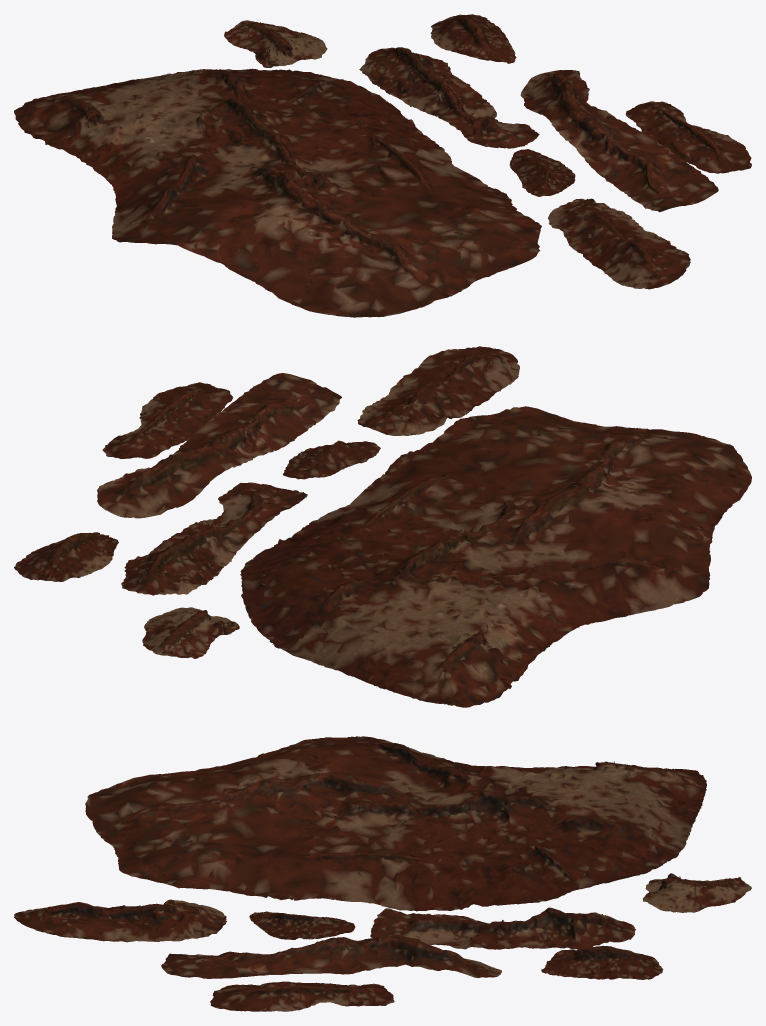
The model's file is root_cluster_02.glb.
3 views of the same model, one above another, from view 1: azimuth 30°, elevation 25°; view 2: azimuth 150°, elevation 25°; view 3: azimuth 270°, elevation 25° (orthographic). The views are drawn at different scales.
Visible parts, largest first — view 1: root_cluster_02_a, root_cluster_02_f, root_cluster_02_d, root_cluster_02_b, root_cluster_02_g, root_cluster_02_e, root_cluster_02_h, root_cluster_02_c; view 2: root_cluster_02_a, root_cluster_02_f, root_cluster_02_d, root_cluster_02_b, root_cluster_02_g, root_cluster_02_h, root_cluster_02_e, root_cluster_02_c; view 3: root_cluster_02_a, root_cluster_02_f, root_cluster_02_d, root_cluster_02_b, root_cluster_02_g, root_cluster_02_h, root_cluster_02_e, root_cluster_02_c.
Boxes of the visible parts, x1,y1,x2,y2 form: root_cluster_02_a: (14,68,541,317); root_cluster_02_f: (520,70,718,212); root_cluster_02_d: (359,47,539,148); root_cluster_02_b: (548,198,690,289); root_cluster_02_g: (625,101,751,173); root_cluster_02_e: (224,20,327,67); root_cluster_02_h: (430,14,516,63); root_cluster_02_c: (509,149,575,196); root_cluster_02_a: (240,406,751,707); root_cluster_02_f: (97,373,341,518); root_cluster_02_d: (121,482,307,595); root_cluster_02_b: (357,346,519,435); root_cluster_02_g: (102,382,232,458); root_cluster_02_h: (14,532,118,581); root_cluster_02_e: (142,607,239,658); root_cluster_02_c: (283,440,380,479); root_cluster_02_a: (85,736,706,911); root_cluster_02_f: (161,934,501,978); root_cluster_02_d: (370,907,635,949); root_cluster_02_b: (14,899,226,942); root_cluster_02_g: (210,981,394,1011); root_cluster_02_h: (541,945,663,979); root_cluster_02_e: (643,873,751,912); root_cluster_02_c: (249,911,355,939).
Size of the model in its own units: 2.38 by 0.1981 by 2.71.
1 material, 1 textured.
